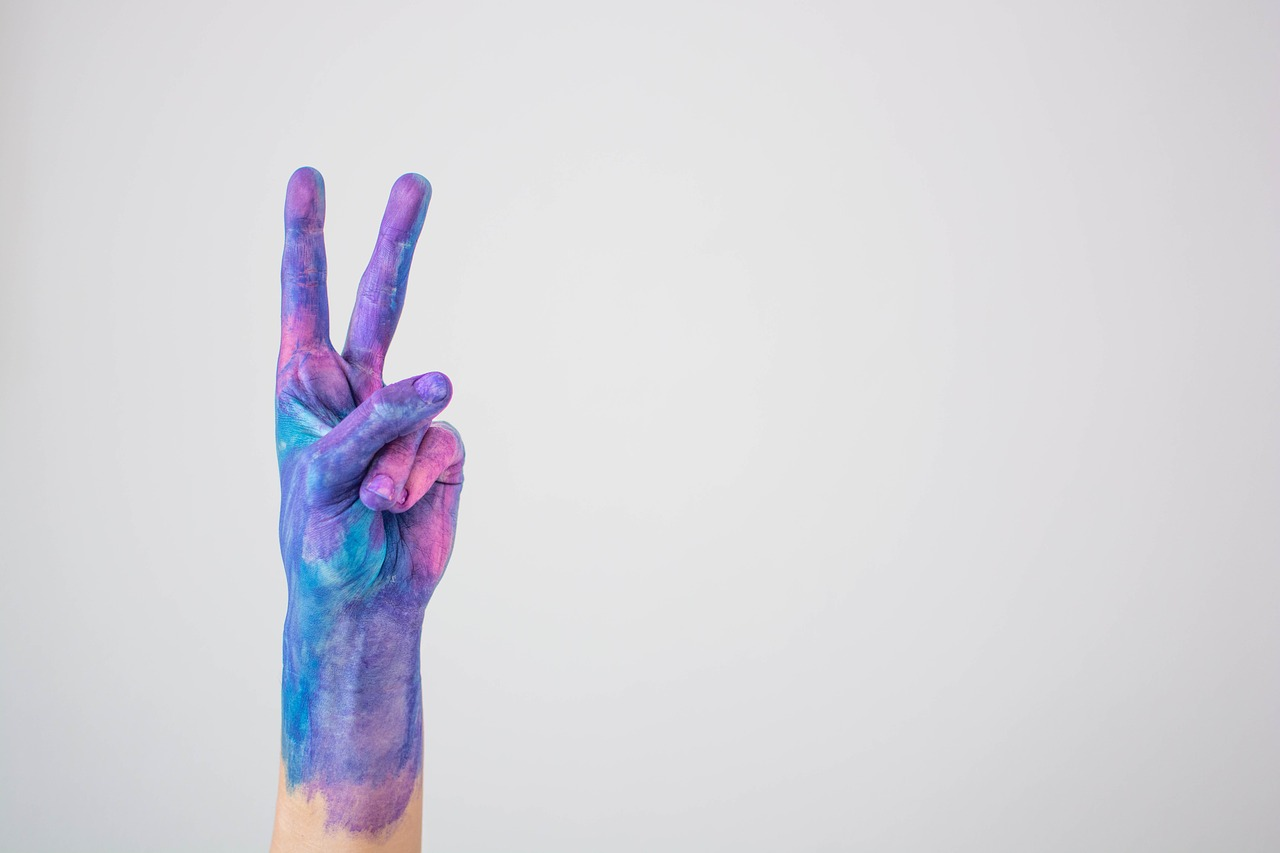peacesign: (247, 155, 430, 398)
